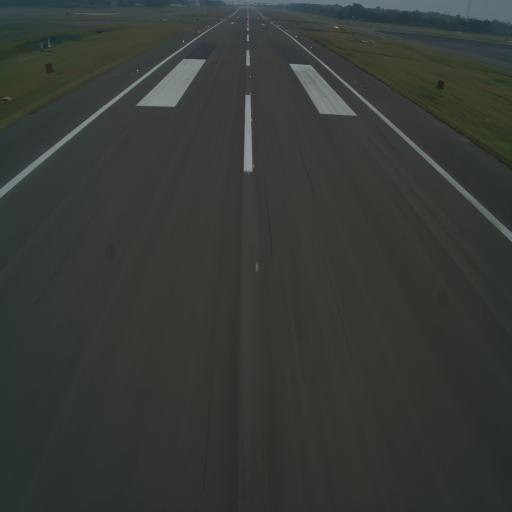off: (353, 79, 357, 85)
on: (253, 261, 259, 273), (251, 162, 256, 170), (135, 67, 141, 73), (250, 116, 253, 122), (249, 91, 252, 97), (249, 74, 252, 79), (182, 39, 185, 44), (248, 62, 251, 66)
